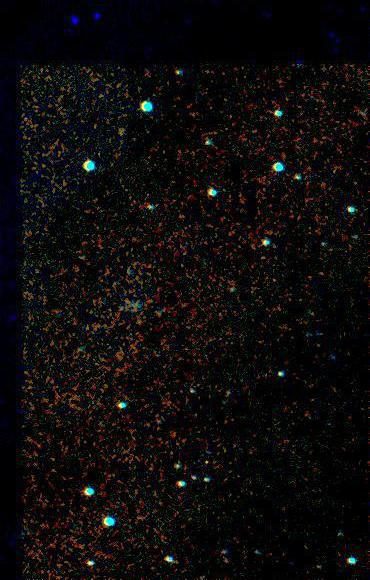star: (192, 448, 222, 478)
